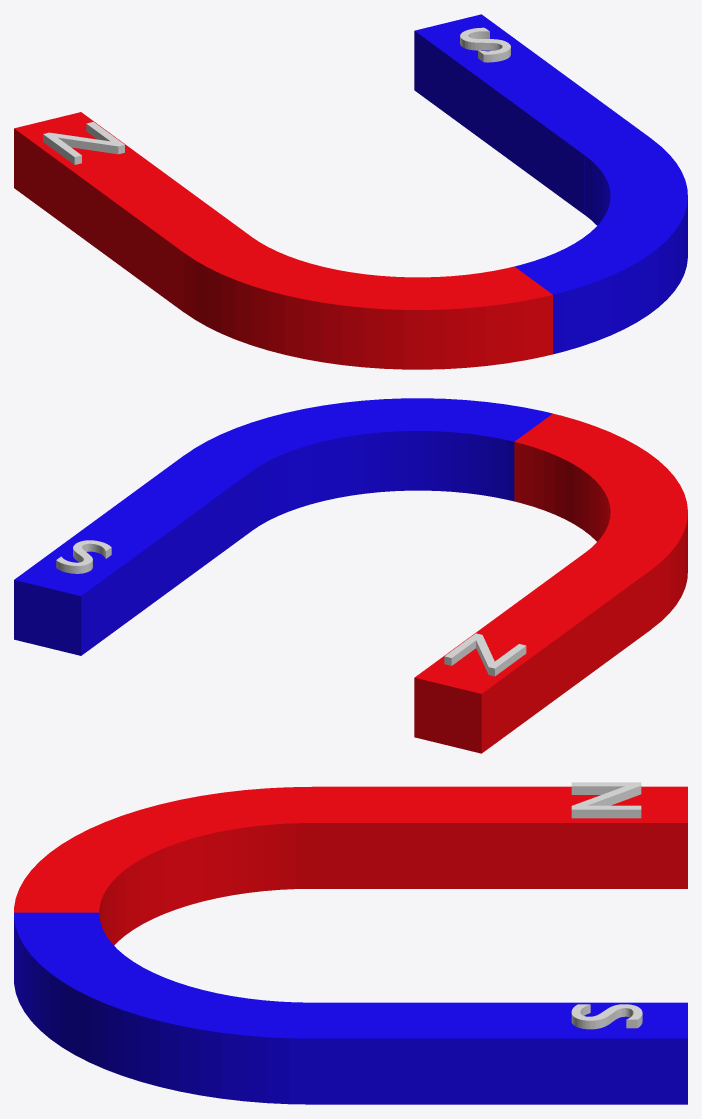
Rendered from Магнит.fbx.
3 views of the same model, one above another, from view 1: azimuth 30°, elevation 25°; view 2: azimuth 150°, elevation 25°; view 3: azimuth 270°, elevation 25° (orthographic). The views are drawn at different scales.
Parts seen in each view (by area): view 1: Куб.001, Текст, Текст.001; view 2: Куб.001, Текст, Текст.001; view 3: Куб.001, Текст, Текст.001.
Boxes of the visible parts, x1,y1,x2,y2 form: Куб.001: (14, 14, 687, 369); Текст: (43, 122, 124, 164); Текст.001: (460, 27, 510, 62); Куб.001: (14, 398, 687, 753); Текст: (444, 633, 526, 676); Текст.001: (56, 540, 111, 573); Куб.001: (14, 786, 687, 1104); Текст: (571, 782, 641, 818); Текст.001: (571, 1004, 642, 1029).
Size of the model in its own units: 777 by 107 by 879.
